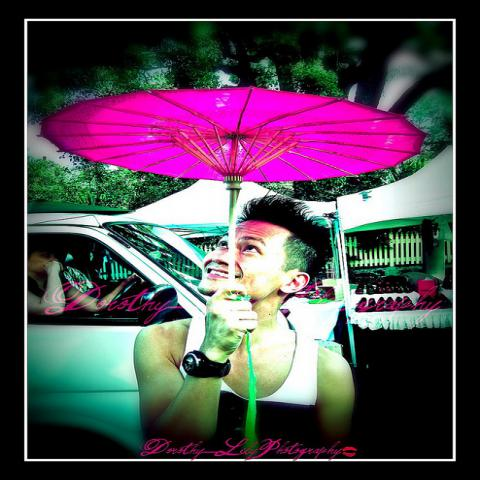car: (21, 212, 211, 466)
